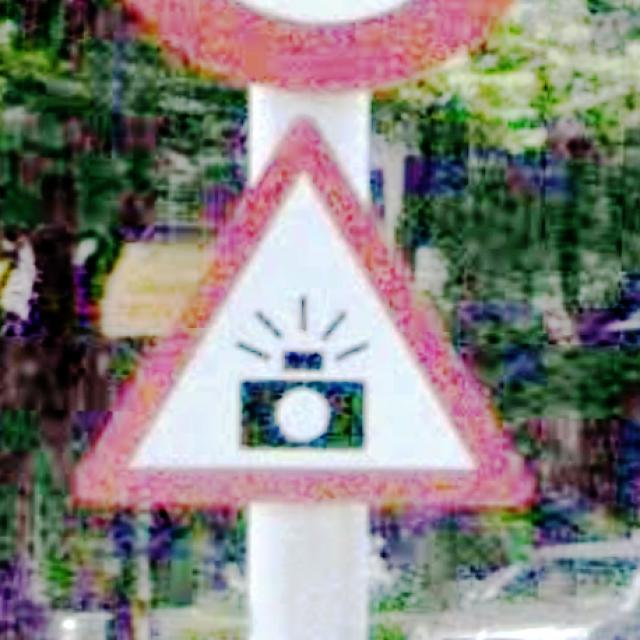speedcamera: (74, 116, 535, 510)
